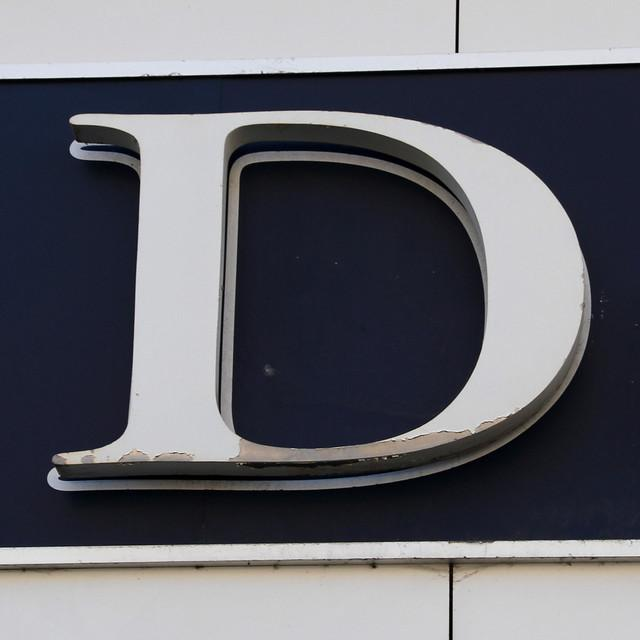D: (36, 96, 613, 530)
